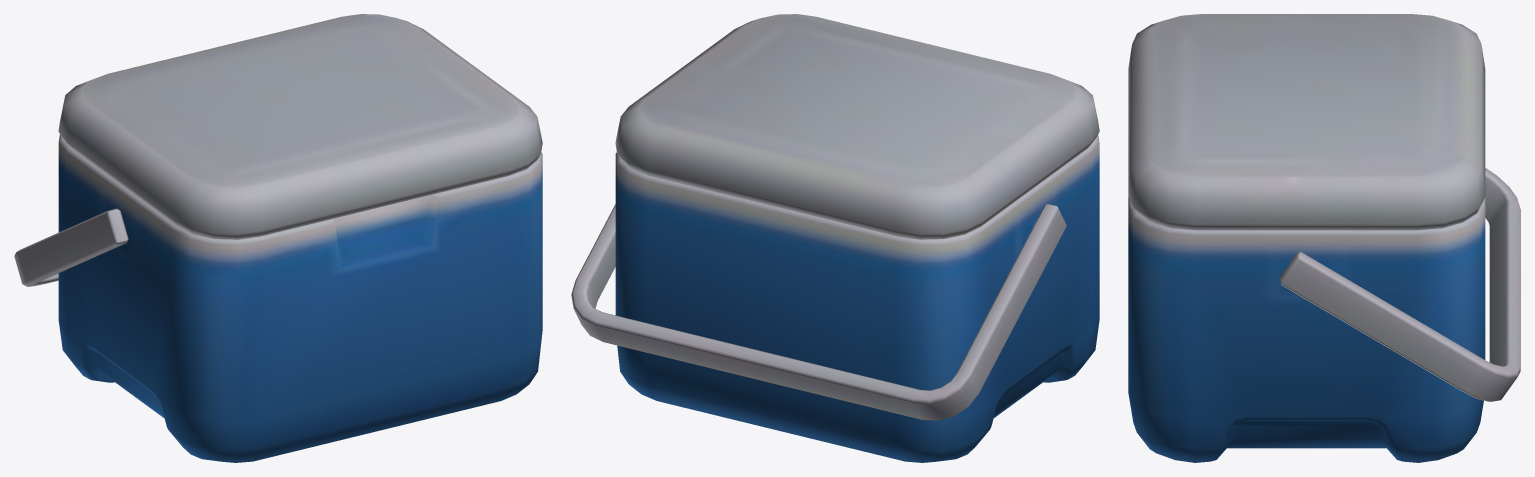
3 renders of one model, left to right at view 1: azimuth 30°, elevation 25°; view 2: azimuth 150°, elevation 25°; view 3: azimuth 270°, elevation 25°, orthographic. The views are drawn at different scales.
Size of the model in its own units: 8.17 by 5.59 by 6.76.
1 material, 1 textured.
